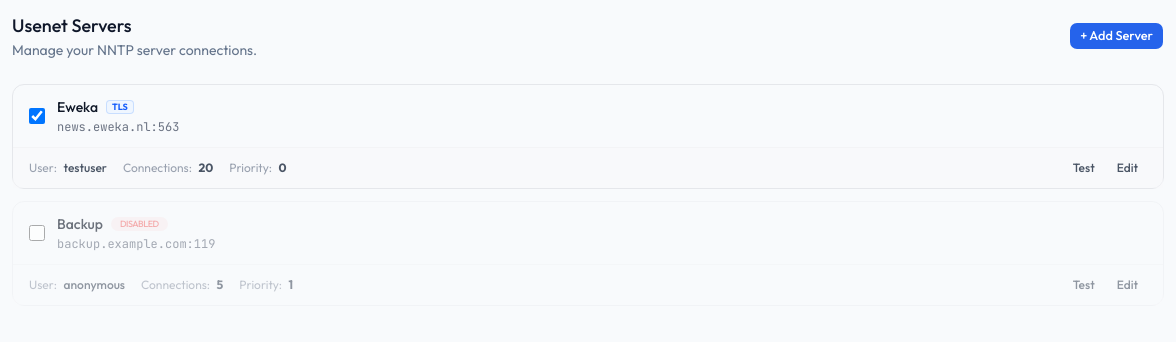
Scenario: ServersSection › shows inline failure result after test
This screenshot has width=1176, height=342.
Click the button titled "Test connection" in the row of "20" at (1084, 168), box [1064,156,1104,180]
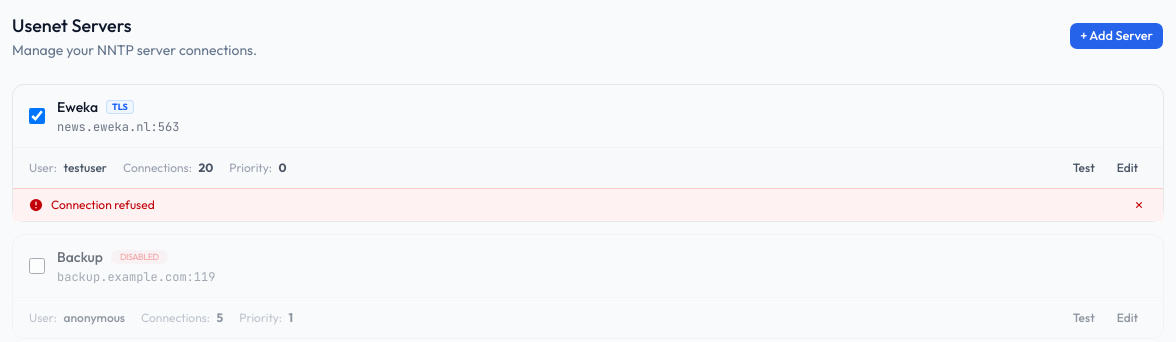
expect the text "Connection refused" is shown: met, box [51,197,155,212]
